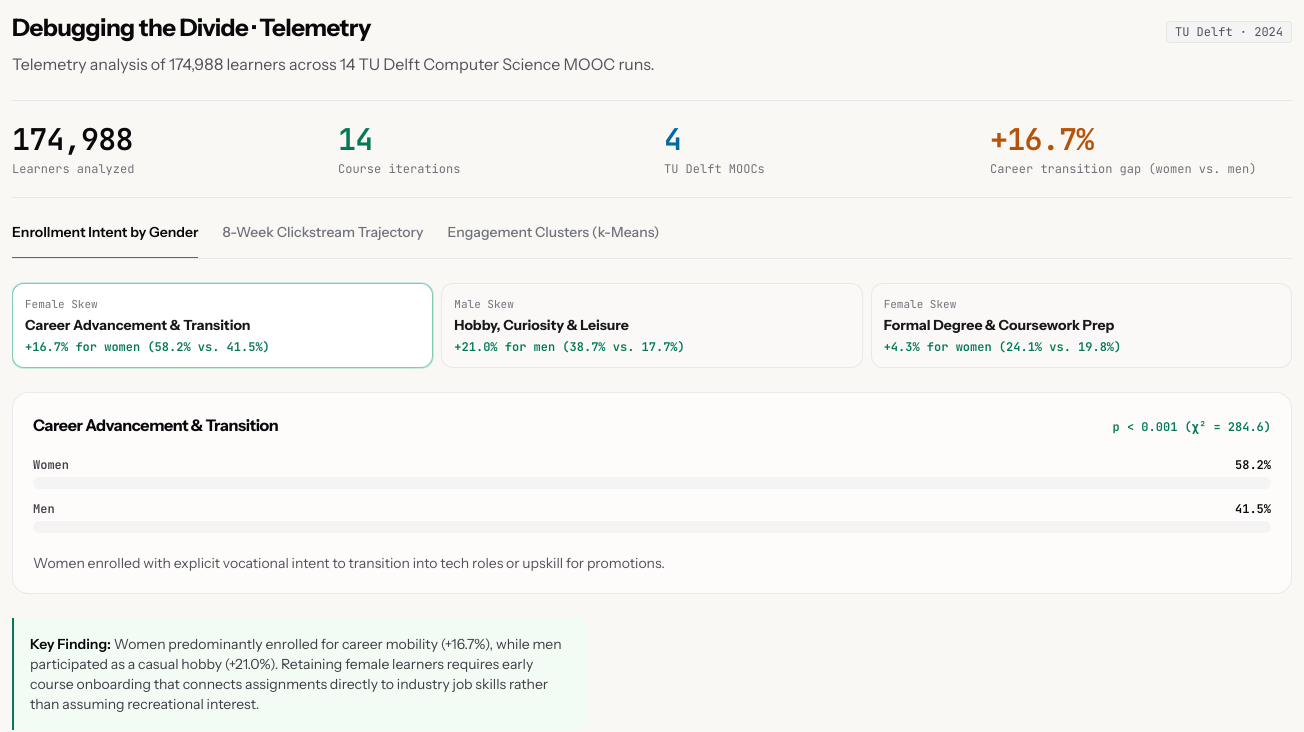
Test: renders DataExplorer with initial metrics and handles tab switching
Check: the heading "Debugging the Divide · Telemetry" is shown, box [12,12,371,44]
Check: the text "174,988" is shown, box [12,54,654,74]
Switch to Engagement Clusters tab
Click the button "Engagement Clusters (k-Means)". click: (553, 236)
box: [447,222,659,250]
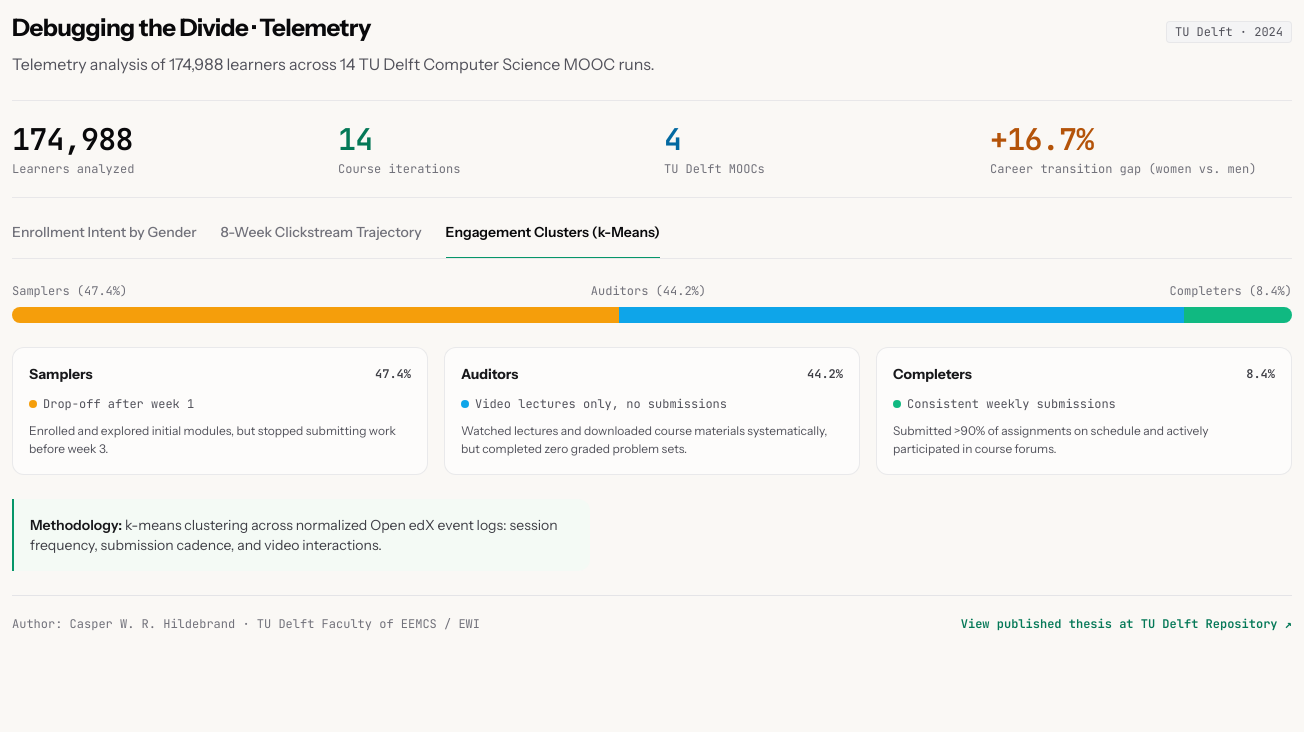
Check: the text "Completers (8.4%)" is shown, box [1170,283,1292,299]
